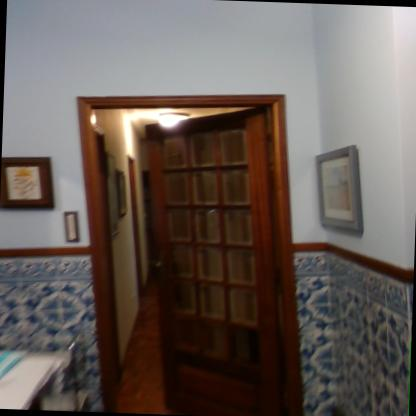semi: (60, 80, 303, 416)
